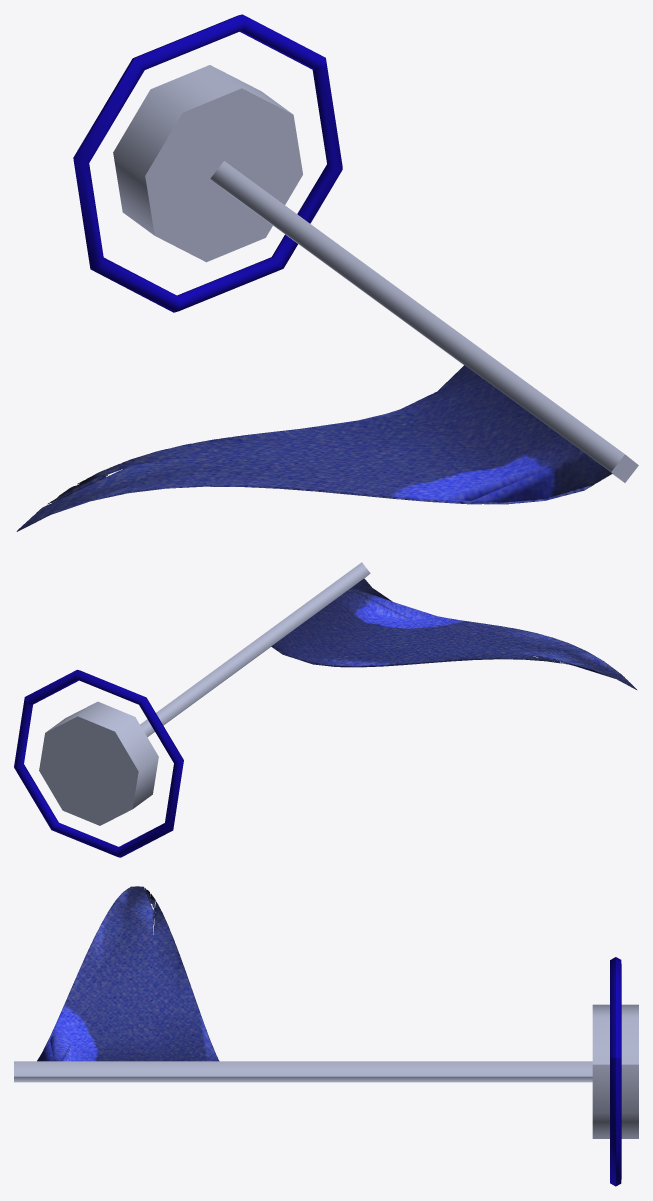
The model's file is flag2.FBX.
The picture shows the model from 3 angles, top to bottom: view 1: azimuth 30°, elevation 25°; view 2: azimuth 150°, elevation 25°; view 3: azimuth 270°, elevation 25°; orthographic projection. The views are drawn at different scales.
Visible parts, largest first — view 1: Obj_000001, Obj_000003, Obj_000002, Obj_000004; view 2: Obj_000001, Obj_000003, Obj_000002, Obj_000004; view 3: Obj_000001, Obj_000004, Obj_000003, Obj_000002.
Part boxes in pixels (bbox=[...]): Obj_000001: bbox=[16, 365, 612, 531]; Obj_000003: bbox=[113, 65, 302, 262]; Obj_000002: bbox=[73, 14, 342, 312]; Obj_000004: bbox=[210, 161, 638, 482]; Obj_000001: bbox=[271, 578, 636, 689]; Obj_000003: bbox=[39, 701, 158, 825]; Obj_000002: bbox=[14, 669, 183, 857]; Obj_000004: bbox=[83, 562, 370, 779]; Obj_000001: bbox=[37, 886, 219, 1061]; Obj_000004: bbox=[14, 1061, 592, 1082]; Obj_000003: bbox=[592, 1004, 638, 1138]; Obj_000002: bbox=[610, 957, 621, 1186].
Size of the model in its own units: 47.51 by 54 by 19.37.
3 materials, 1 textured.
